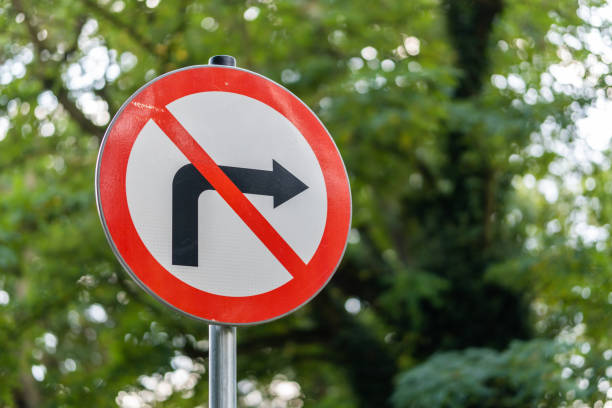saga_donulmez: (93, 68, 357, 329)
